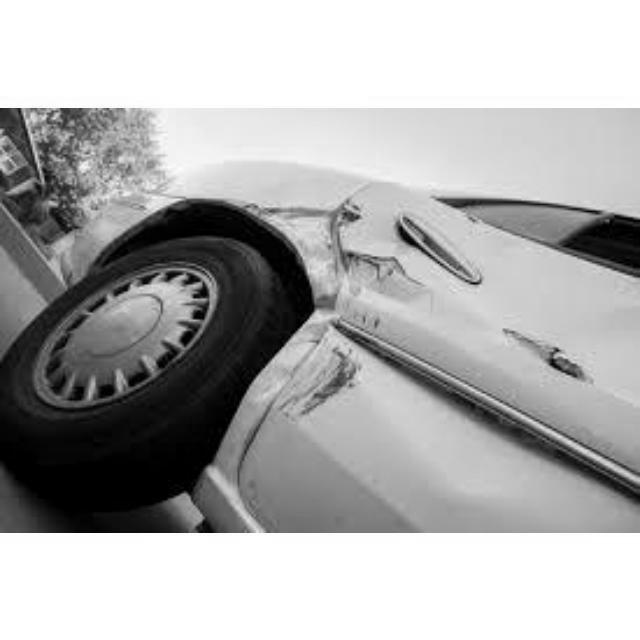doorouter-dent: (257, 196, 638, 521)
